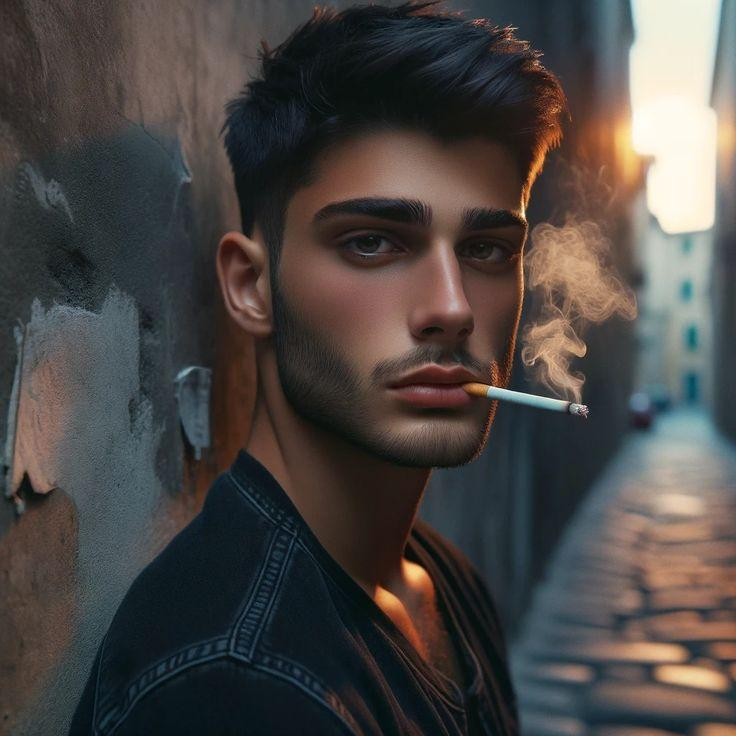cigarette: (461, 380, 590, 416)
